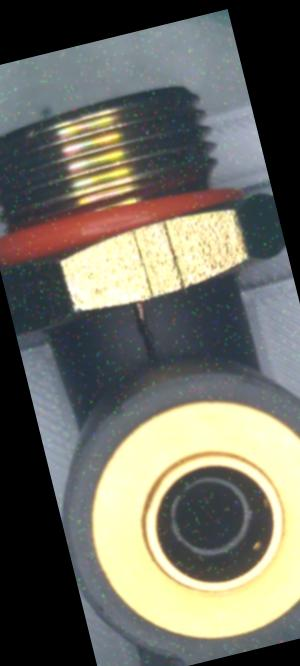craze: (122, 295, 167, 367)
